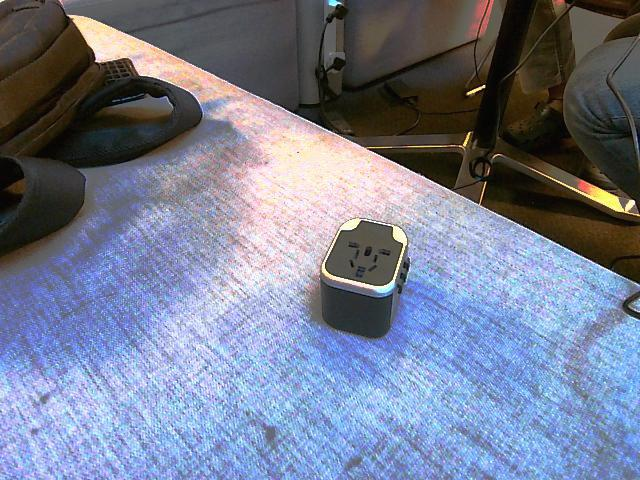adapter: (318, 216, 410, 338)
